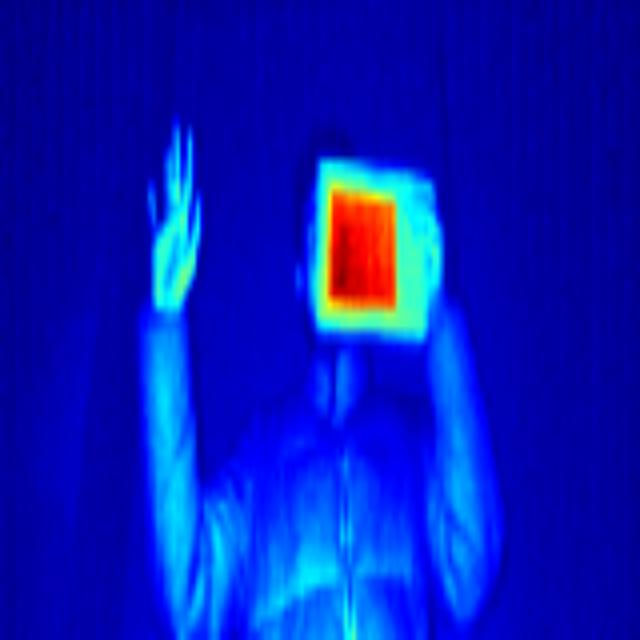hand: (122, 123, 224, 321)
rectangle: (307, 150, 439, 346)
